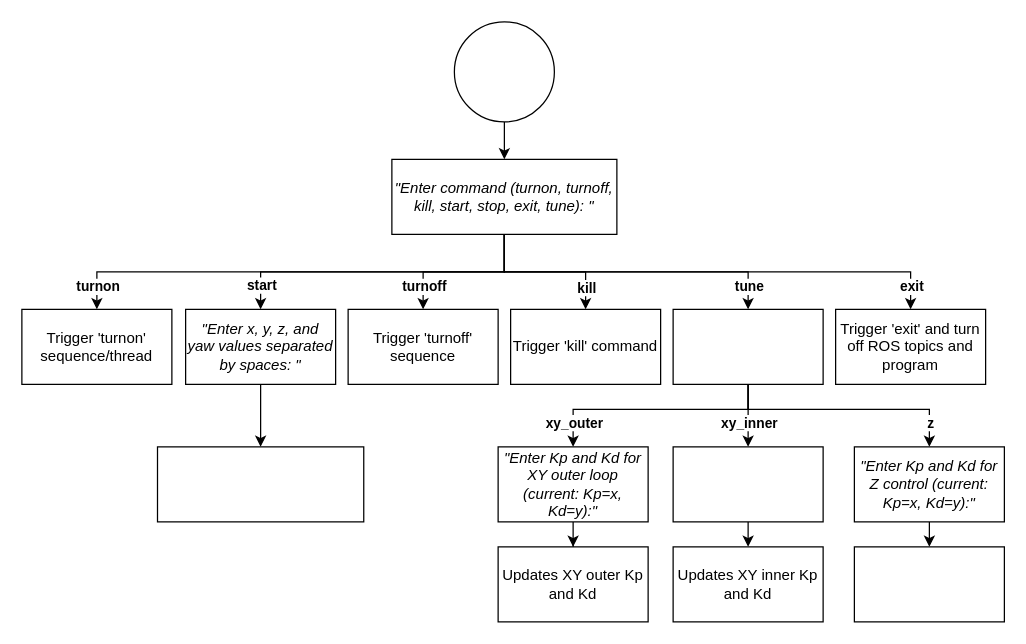
Image size: 1026x644. Some labels were removed from this diagram. Here are the shapes that lost their labels. From the top down, the centre of each, then its label:
the point at 503,71: Start Interface
the point at 747,346: "Enter gain type (xy_outer, xy_inner, z)"
the point at 260,484: Trigger 'publish_attitude_setpoint" msg
the point at 747,484: "Enter Kp and Kd for XY inner loop (current: Kp=x, Kd=y):"
the point at 928,584: Updates Z Kp and Kd
